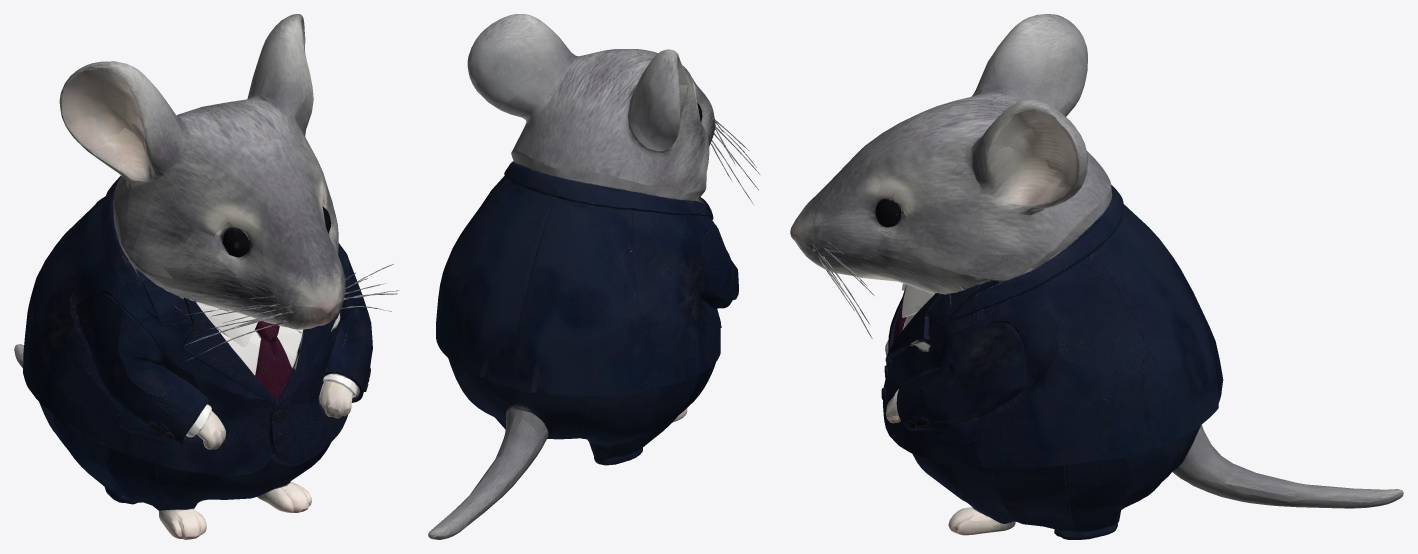
File: dealer_lite.glb
3 renders of one model, left to right at view 1: azimuth 30°, elevation 25°; view 2: azimuth 150°, elevation 25°; view 3: azimuth 270°, elevation 25°, orthographic. The views are drawn at different scales.
Parts seen in each view (by area): view 1: Mesh_0; view 2: Mesh_0; view 3: Mesh_0.
Boxes of the visible parts, <box> form: Mesh_0: <box>14,14,398,539</box>; Mesh_0: <box>428,14,759,539</box>; Mesh_0: <box>790,14,1403,539</box>.
Bounding box in the file's own units: 0.9986 × 1.53 × 1.9.
Materials: 1 (1 with a texture image).
